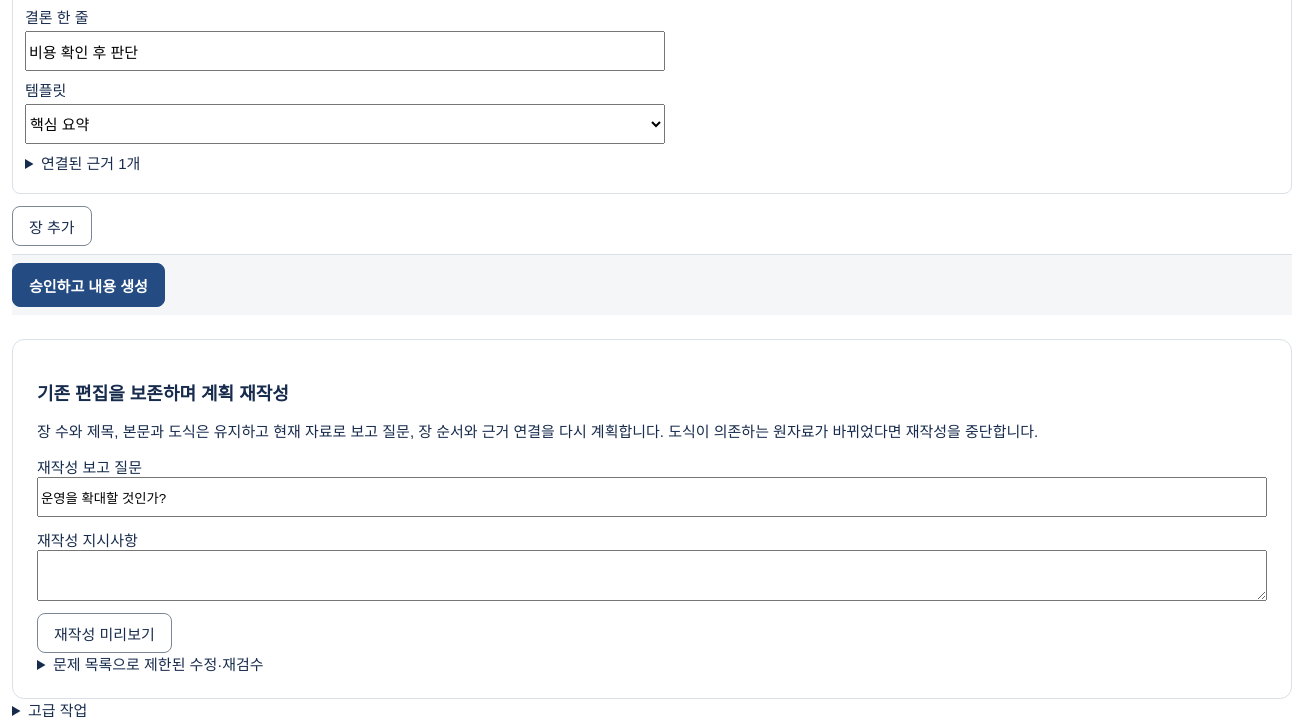
동의 취소는 실패로 표시하지 않는다
The width and height of the screenshot is (1292, 720).
(page scrolled)
Click the button "재작성 미리보기" at (104, 633), box [37,613,172,653]
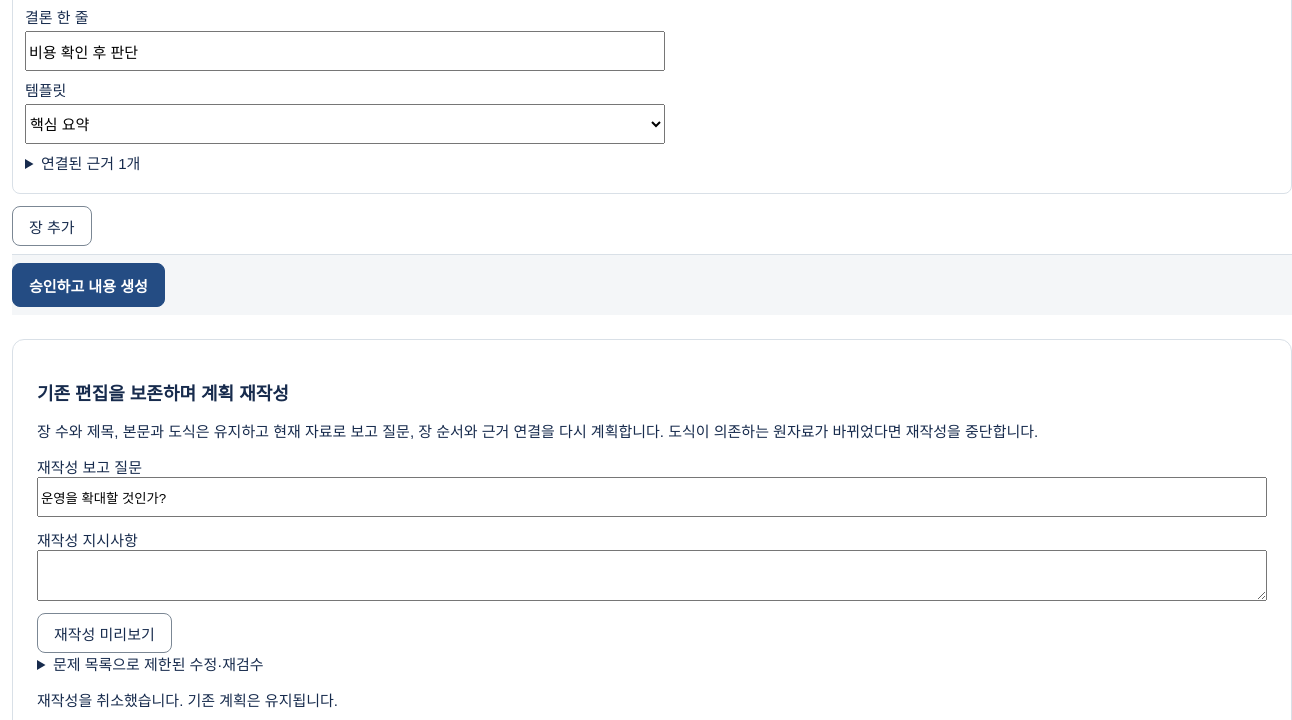
Expected: the text "재작성을 취소했습니다. 기존 계획은 유지됩니다." is shown, [37,692,338,709]
